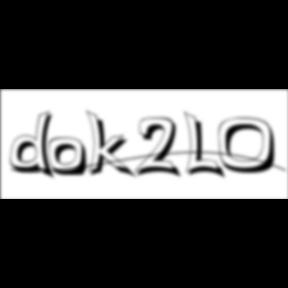2: (135, 117, 185, 181)
L: (184, 110, 228, 182)
O: (218, 117, 284, 176)
d: (10, 110, 60, 182)
k: (86, 108, 138, 181)
o: (48, 137, 90, 179)
